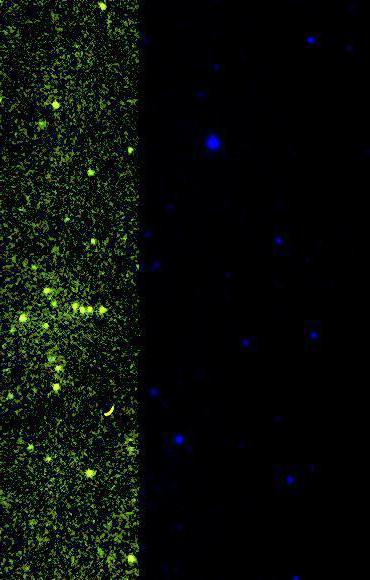star: (9, 552, 39, 580)
